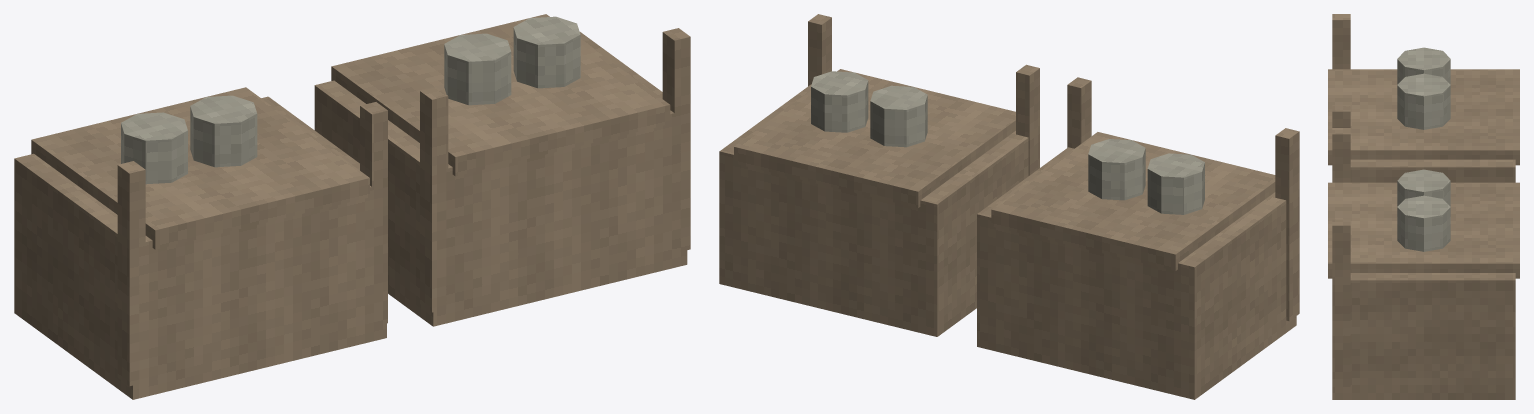
Rendered from level_blockout_root_cellar_bins.glb.
3 views of the same model, side by side, from view 1: azimuth 30°, elevation 25°; view 2: azimuth 150°, elevation 25°; view 3: azimuth 270°, elevation 25° (orthographic). The views are drawn at different scales.
Parts seen in each view (by area): view 1: level_blockout_root_cellar_bins; view 2: level_blockout_root_cellar_bins; view 3: level_blockout_root_cellar_bins.
Part boxes in pixels (x1,y1,x2,y2): level_blockout_root_cellar_bins: (14,14,690,399); level_blockout_root_cellar_bins: (719,14,1299,399); level_blockout_root_cellar_bins: (1328,14,1519,399).
Size of the model in its own units: 2.43 by 0.94 by 0.93.
Materials: 2 (2 with a texture image).
